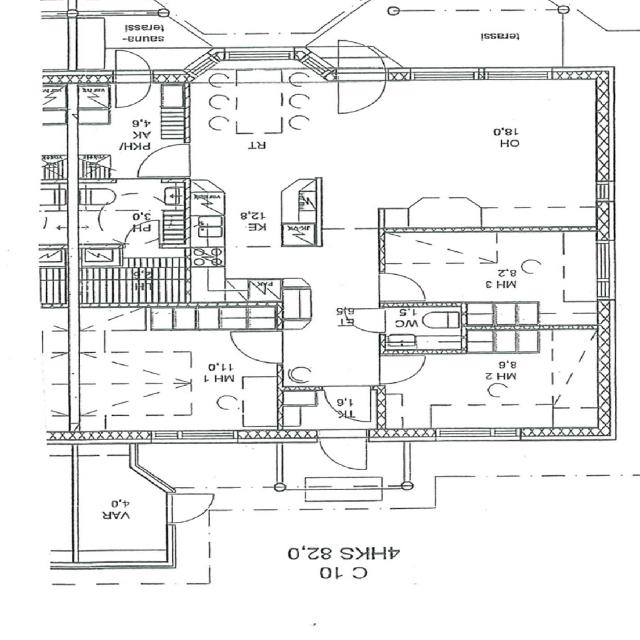door: (338, 68, 384, 112), (338, 35, 384, 79), (320, 430, 367, 470), (323, 385, 370, 423), (139, 144, 190, 177), (233, 331, 283, 363), (167, 494, 217, 522), (116, 70, 151, 106), (116, 46, 151, 82), (379, 273, 424, 301), (380, 356, 422, 383), (126, 220, 160, 247), (346, 310, 384, 332)
